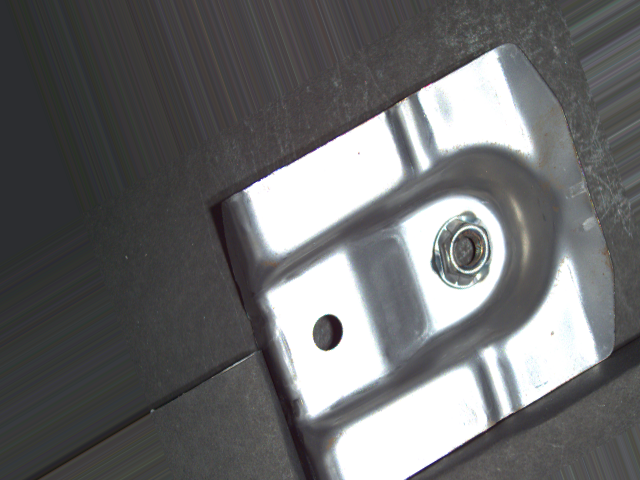good: (427, 208, 495, 294)
